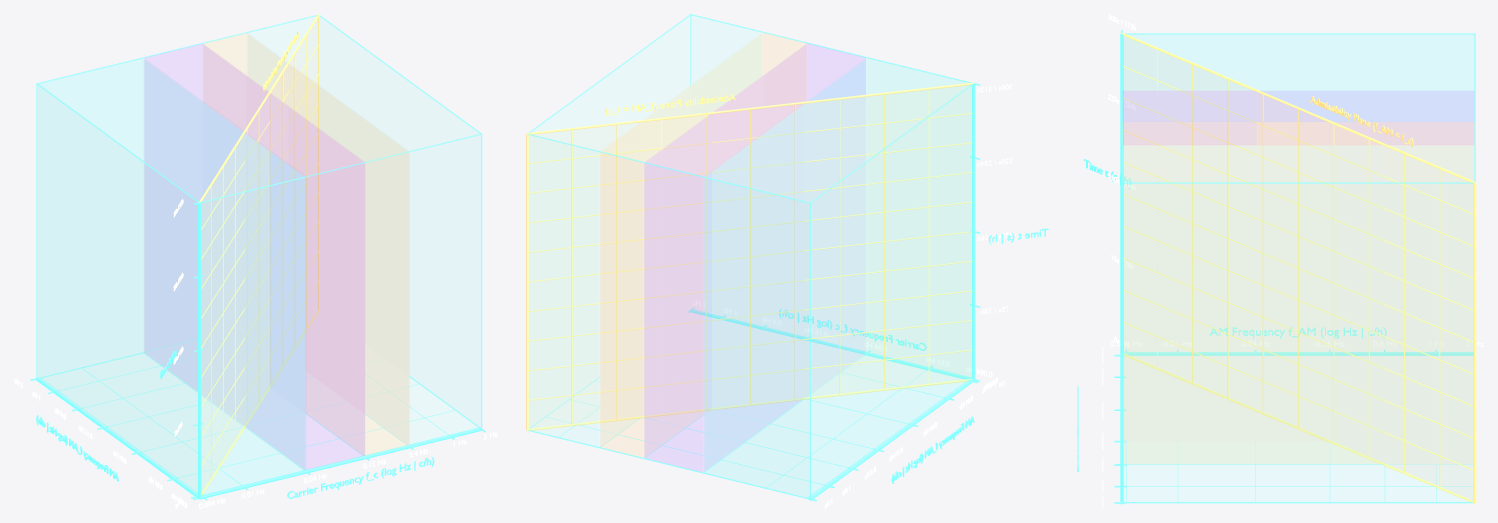
File: hhsa_axes.glb
3 renders of one model, left to right at view 1: azimuth 30°, elevation 25°; view 2: azimuth 150°, elevation 25°; view 3: azimuth 270°, elevation 25°, orthographic. The views are drawn at different scales.
Visible parts, largest first — view 1: BandSlab_fc_VLF, BandSlab_fc_LF, BandSlab_fc_HF, BandSlab_fc_VHF, Axis_Z_Time_t, Axis_X_Carrier_fc, Admissibility_fAM_eq_fc_z_10, Axis_Y_AM_fam, Title_Axis_X_fc, Admissibility_fAM_eq_fc_xy_10, Title_Axis_Y_fam, Frame_Edge_6 (+8 smaller); view 2: BandSlab_fc_VLF, BandSlab_fc_LF, BandSlab_fc_VHF, BandSlab_fc_HF, Admissibility_fAM_eq_fc_xy_10, Admissibility_fAM_eq_fc_xy_0, Axis_Z_Time_t, Axis_X_Carrier_fc, Admissibility_fAM_eq_fc_z_10, Axis_Y_AM_fam, Admissibility_fAM_eq_fc_xy_2, Admissibility_fAM_eq_fc_xy_4 (+15 smaller); view 3: BandSlab_fc_VHF, BandSlab_fc_HF, BandSlab_fc_VLF, BandSlab_fc_LF, Axis_Y_AM_fam, Admissibility_fAM_eq_fc_z_10, Axis_Z_Time_t, Admissibility_fAM_eq_fc_xy_10, Admissibility_fAM_eq_fc_xy_0, Frame_Edge_3, Frame_Edge_5, Frame_Edge_0 (+19 smaller).
Boxes of the visible parts, x1,y1,x2,y2 form: BandSlab_fc_VLF: (38,59,304,494); BandSlab_fc_LF: (145,44,364,469); BandSlab_fc_HF: (204,33,408,454); BandSlab_fc_VHF: (248,17,480,443); Axis_Z_Time_t: (198,203,201,498); Axis_X_Carrier_fc: (199,427,482,499); Admissibility_fAM_eq_fc_z_10: (317,16,319,309); Axis_Y_AM_fam: (35,377,199,499); Title_Axis_X_fc: (287,456,434,498); Admissibility_fAM_eq_fc_xy_10: (199,14,319,202); Title_Axis_Y_fam: (36,415,118,481); Frame_Edge_6: (481,134,482,427); BandSlab_fc_VLF: (705,58,971,497); BandSlab_fc_LF: (645,44,865,471); BandSlab_fc_VHF: (529,15,761,446); BandSlab_fc_HF: (601,33,805,457); Admissibility_fAM_eq_fc_xy_10: (527,82,973,134); Admissibility_fAM_eq_fc_xy_0: (527,378,971,430); Axis_Z_Time_t: (972,84,975,379); Axis_X_Carrier_fc: (690,309,971,379); Admissibility_fAM_eq_fc_z_10: (526,134,528,430); Axis_Y_AM_fam: (809,378,974,500); Admissibility_fAM_eq_fc_xy_2: (528,320,972,371); Admissibility_fAM_eq_fc_xy_4: (528,261,972,311); BandSlab_fc_VHF: (1123,146,1473,501); BandSlab_fc_HF: (1123,122,1473,463); BandSlab_fc_VLF: (1124,35,1473,121); BandSlab_fc_LF: (1123,91,1473,144); Axis_Y_AM_fam: (1124,352,1473,355); Admissibility_fAM_eq_fc_z_10: (1473,183,1476,503); Axis_Z_Time_t: (1120,33,1123,352); Admissibility_fAM_eq_fc_xy_10: (1121,32,1475,183); Admissibility_fAM_eq_fc_xy_0: (1124,353,1474,503); Frame_Edge_3: (1122,182,1473,183); Frame_Edge_5: (1124,33,1474,34); Frame_Edge_0: (1126,502,1473,503).
Bounding box in the file's own units: 12.28 × 10.77 × 11.52.
